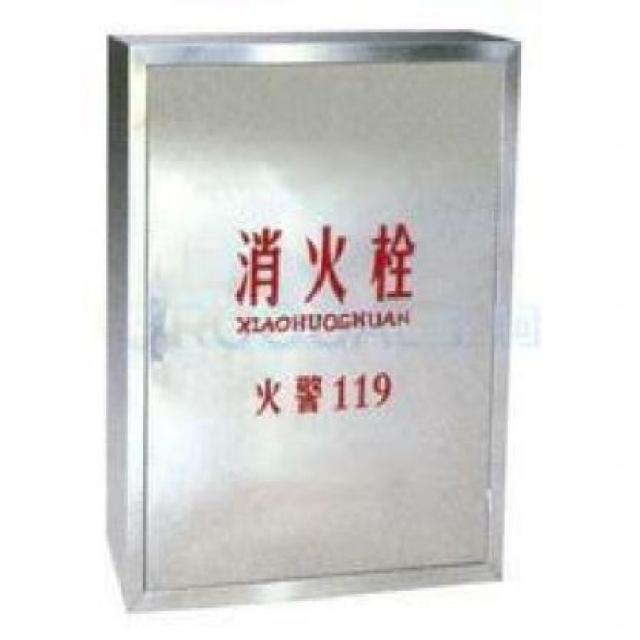firehydrant: (102, 20, 526, 619)
